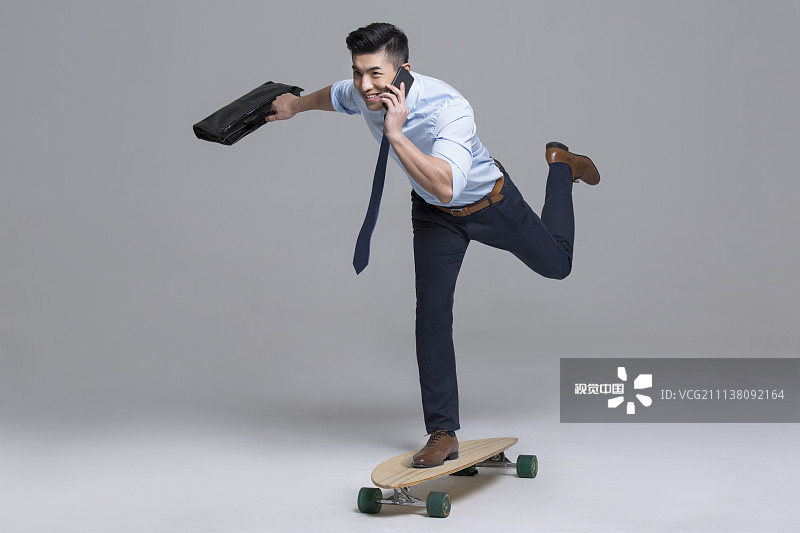calling: (367, 61, 415, 157)
no-phone: (226, 76, 318, 145)
